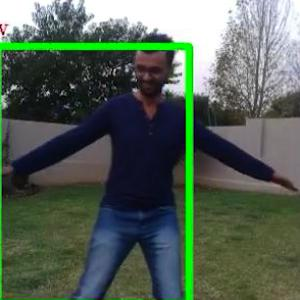land: (0, 39, 236, 299)
